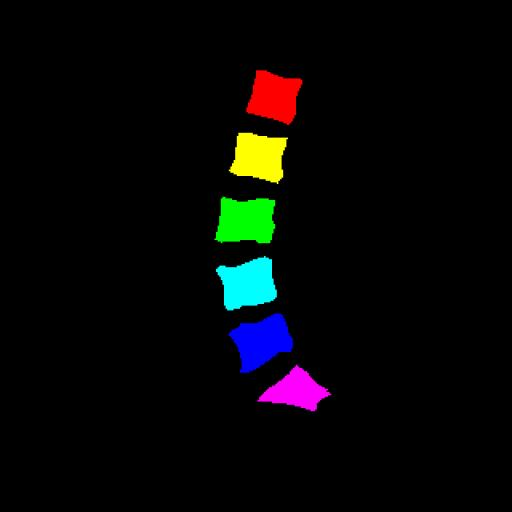L1: (246, 70, 302, 124)
L2: (229, 133, 287, 182)
L3: (216, 197, 275, 243)
L4: (216, 257, 277, 310)
L5: (229, 314, 293, 372)
S1: (258, 365, 331, 410)
